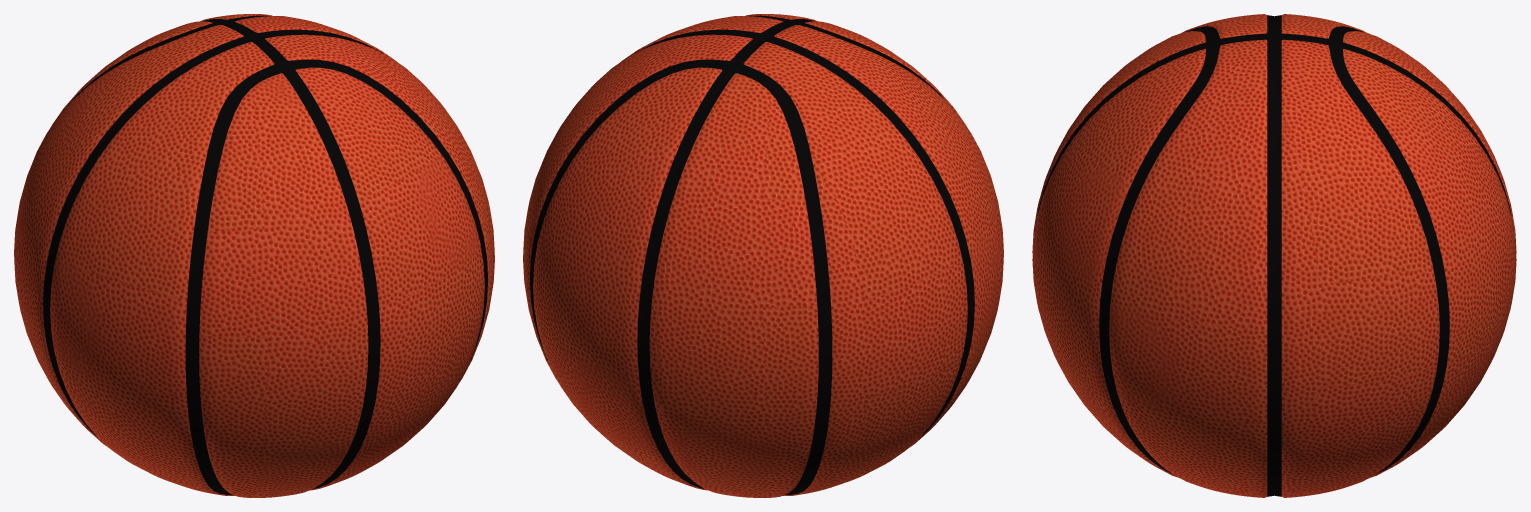
The model's file is BasketballModel.fbx.
The picture shows the model from 3 angles, left to right: view 1: azimuth 30°, elevation 25°; view 2: azimuth 150°, elevation 25°; view 3: azimuth 270°, elevation 25°; orthographic projection.
Parts seen in each view (by area): view 1: Basketball; view 2: Basketball; view 3: Basketball.
Part boxes in pixels (x1,y1,x2,y2): Basketball: (14,14,494,497); Basketball: (523,14,1003,497); Basketball: (1032,14,1516,497).
Size of the model in its own units: 193 by 193 by 193.
